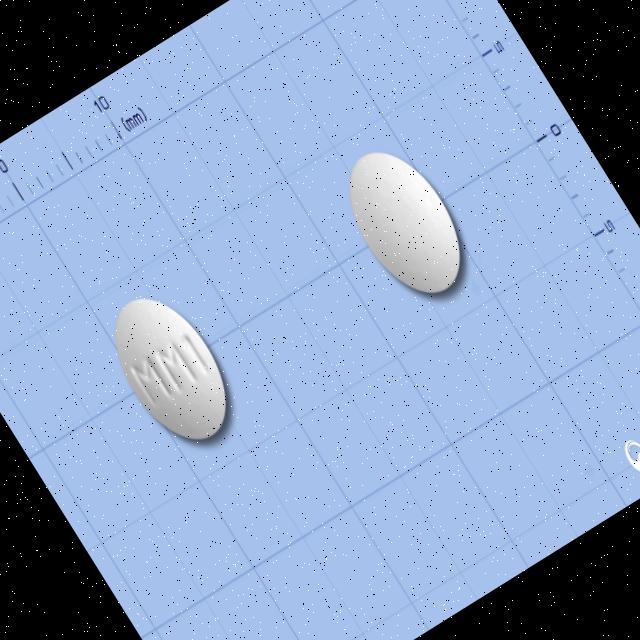Leflunomide - 20mg: (91, 276, 250, 458)
